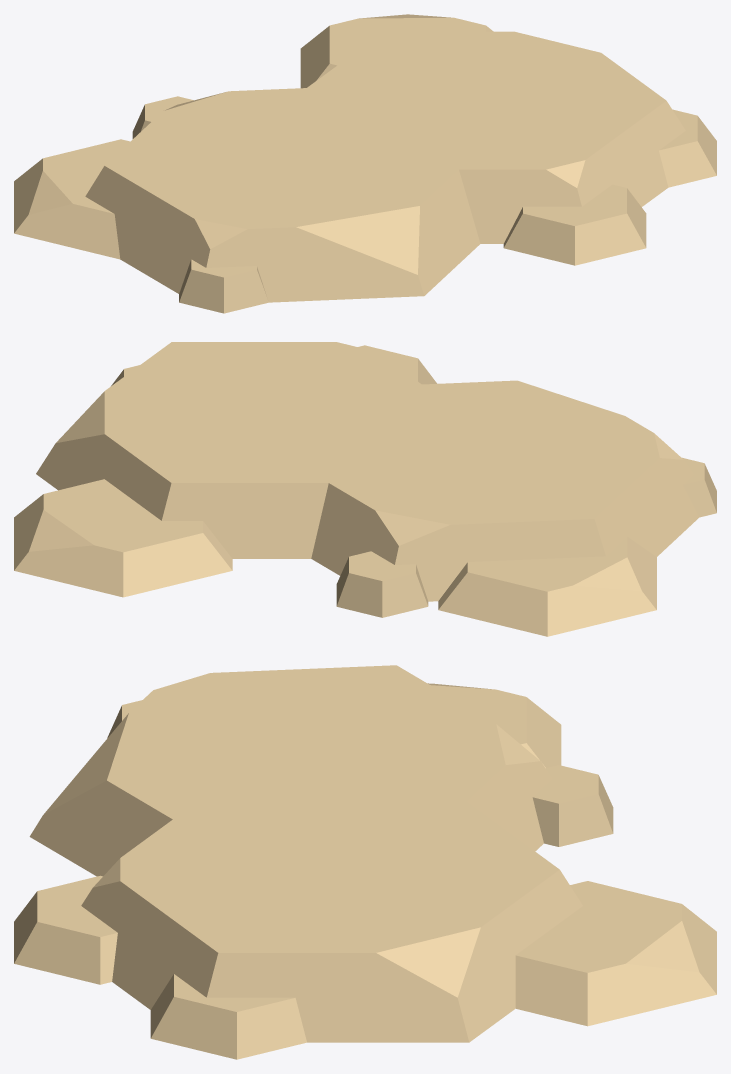
File: sand-patch.glb
3 renders of one model, top to bottom at view 1: azimuth 30°, elevation 25°; view 2: azimuth 150°, elevation 25°; view 3: azimuth 270°, elevation 25°, orthographic. The views are drawn at different scales.
Visible parts, largest first — view 1: platform_beach; view 2: platform_beach; view 3: platform_beach.
Part boxes in pixels (left/top/right/bottom): platform_beach: left=14, top=14, right=716, bottom=313; platform_beach: left=14, top=342, right=716, bottom=636; platform_beach: left=14, top=665, right=716, bottom=1059.
Size of the model in its own units: 3.57 by 0.3302 by 2.9.
